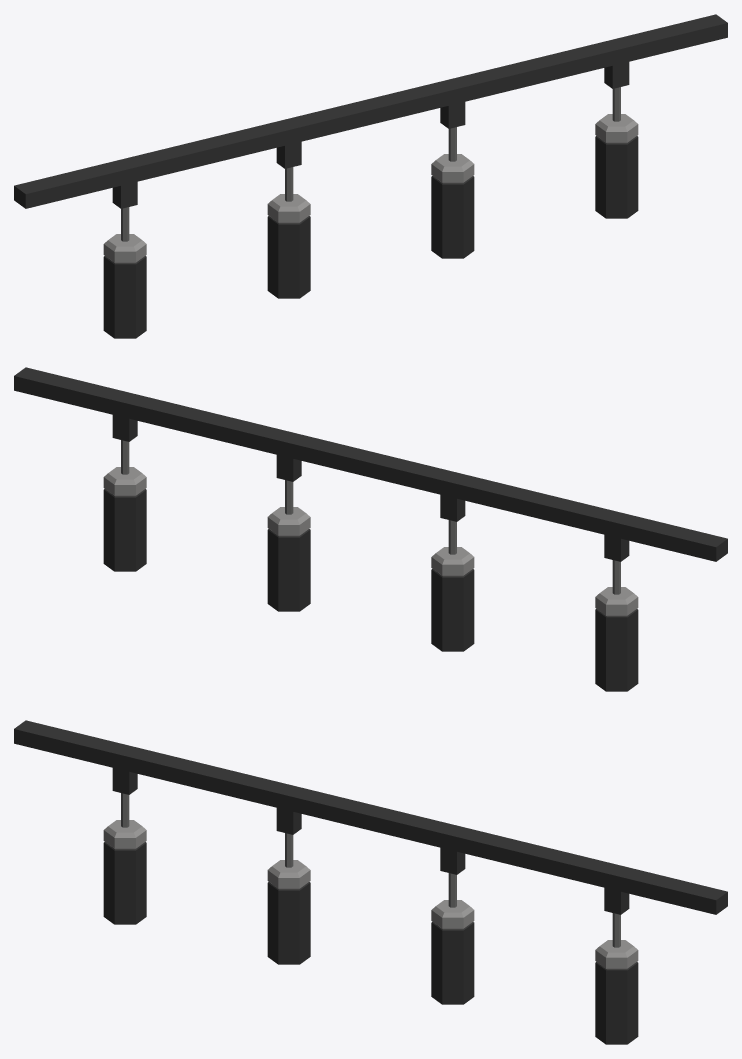
File: SM_Props_Interior_Shop_Light_CeilingLight_10.fbx
The picture shows the model from 3 angles, top to bottom: view 1: azimuth 30°, elevation 25°; view 2: azimuth 150°, elevation 25°; view 3: azimuth 330°, elevation 25°; orthographic projection.
Parts seen in each view (by area): view 1: SM_Props_Interior_Shop_Light_CeilingLight_10; view 2: SM_Props_Interior_Shop_Light_CeilingLight_10; view 3: SM_Props_Interior_Shop_Light_CeilingLight_10.
Boxes of the visible parts, x1=… form: SM_Props_Interior_Shop_Light_CeilingLight_10: x1=14, y1=14, x2=727, y2=338; SM_Props_Interior_Shop_Light_CeilingLight_10: x1=14, y1=367, x2=727, y2=691; SM_Props_Interior_Shop_Light_CeilingLight_10: x1=14, y1=720, x2=727, y2=1044.
Bounding box in the file's own units: 300 × 68 × 15.87.
